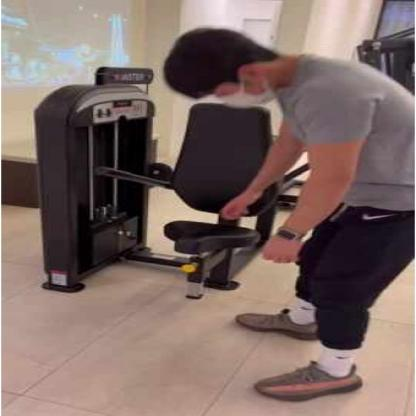seated dip machine: (38, 65, 327, 302)
